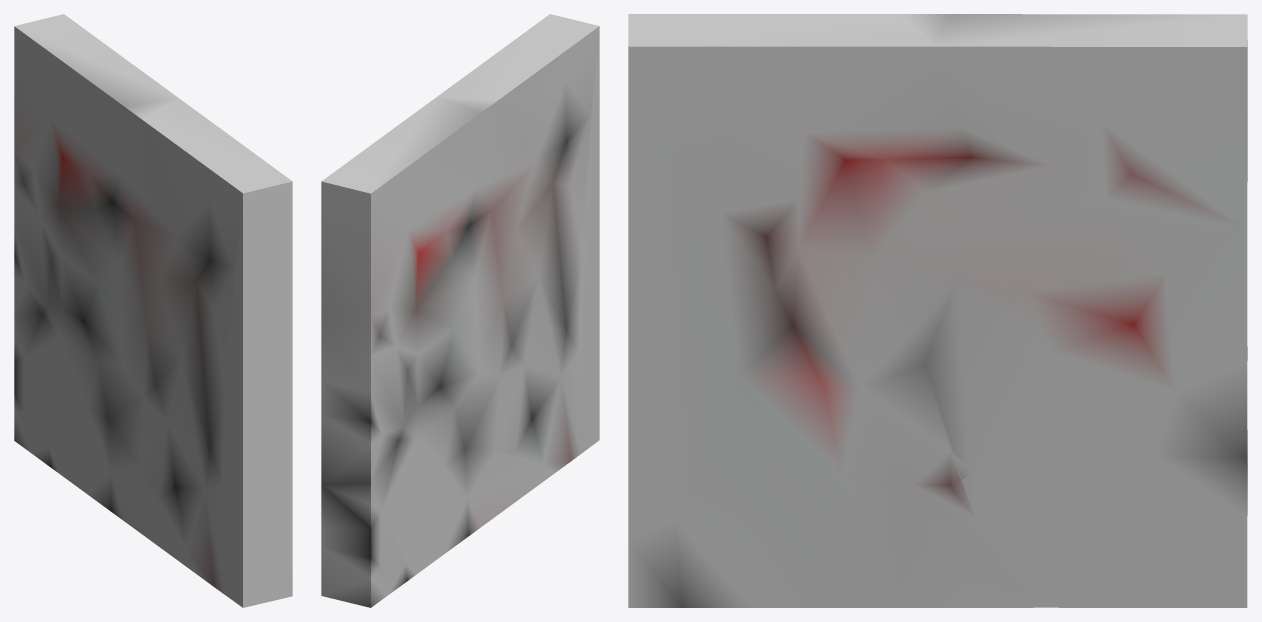
Rendered from FactoryWall.fbx.
The picture shows the model from 3 angles, left to right: view 1: azimuth 30°, elevation 25°; view 2: azimuth 150°, elevation 25°; view 3: azimuth 270°, elevation 25°; orthographic projection. The views are drawn at different scales.
Parts seen in each view (by area): view 1: SM_Wall_4M; view 2: SM_Wall_4M; view 3: SM_Wall_4M.
Boxes of the visible parts, left/top/right/bottom form: SM_Wall_4M: left=14, top=14, right=292, bottom=607; SM_Wall_4M: left=321, top=14, right=599, bottom=607; SM_Wall_4M: left=628, top=14, right=1247, bottom=607.
Size of what is drawn, in the model's own units: 50.11 by 400 by 400.
